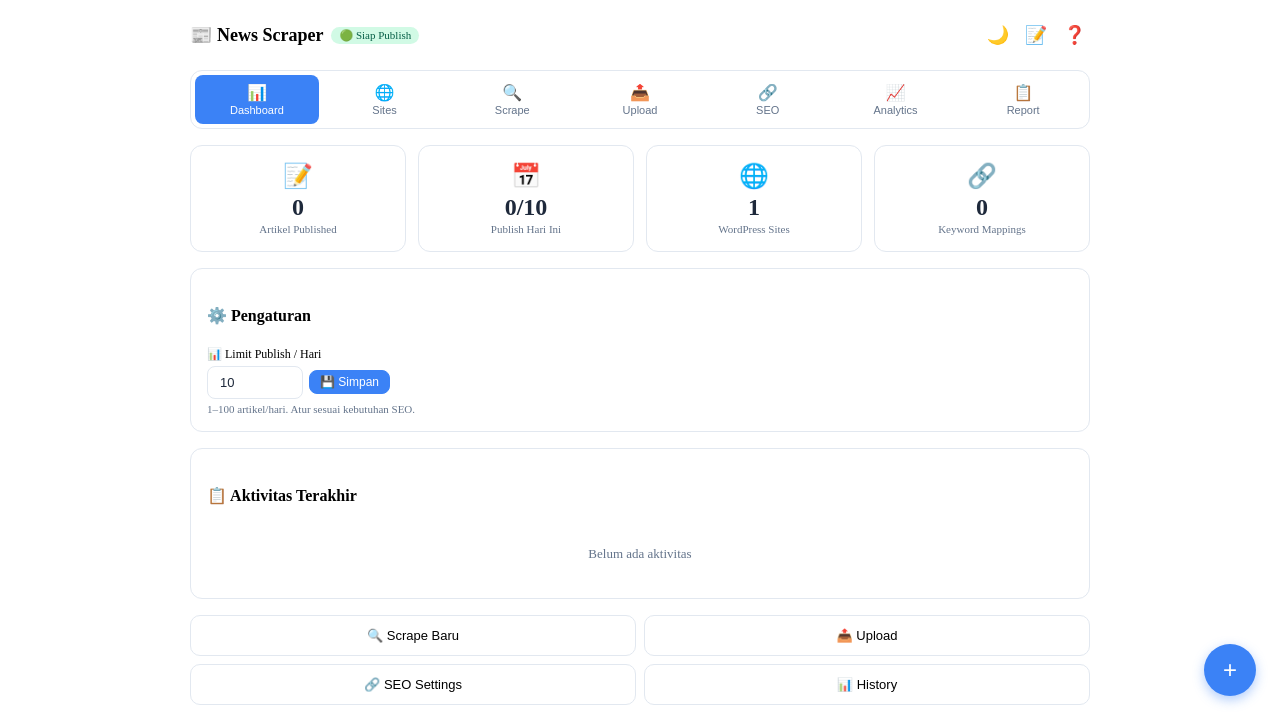
Test: ItEfView — Hapus Semua (delete-all) double-confirm flow › sukses → pesan ringkasan 25/25 + duplikat dicek ulang + log direfresh
This screenshot has width=1280, height=720.
Step 1. Click the button "🔗 SEO" → x=768, y=100, box [706, 75, 830, 124]
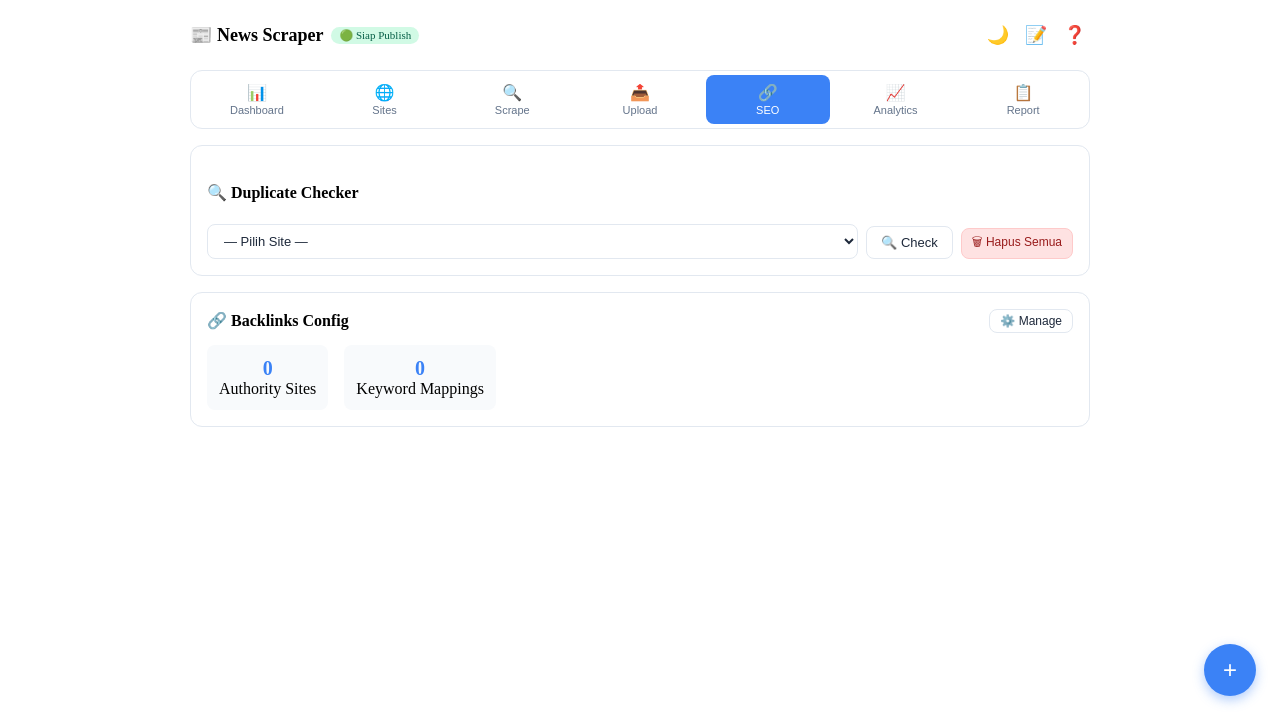
Step 2. Select "TestSite" in the dropdown → x=533, y=241, box [207, 224, 858, 258]
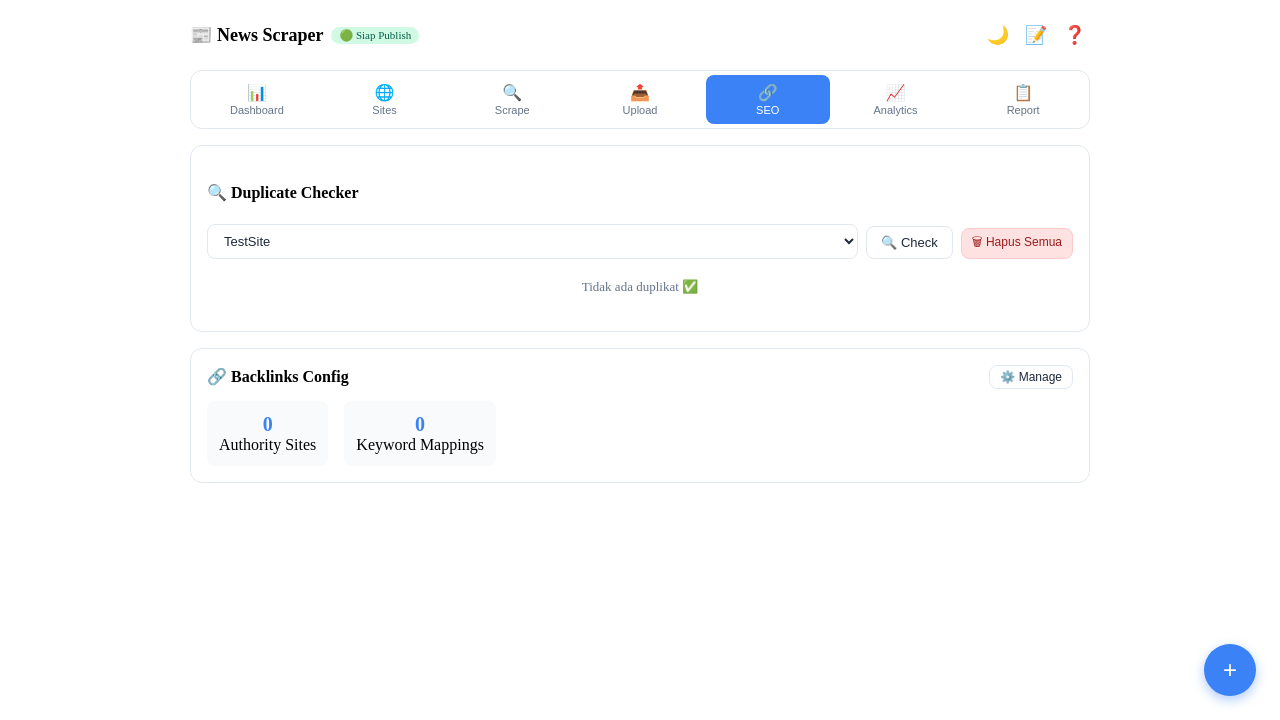
Step 3. Click the button "🔍 Check" → x=909, y=242, box [866, 226, 953, 258]
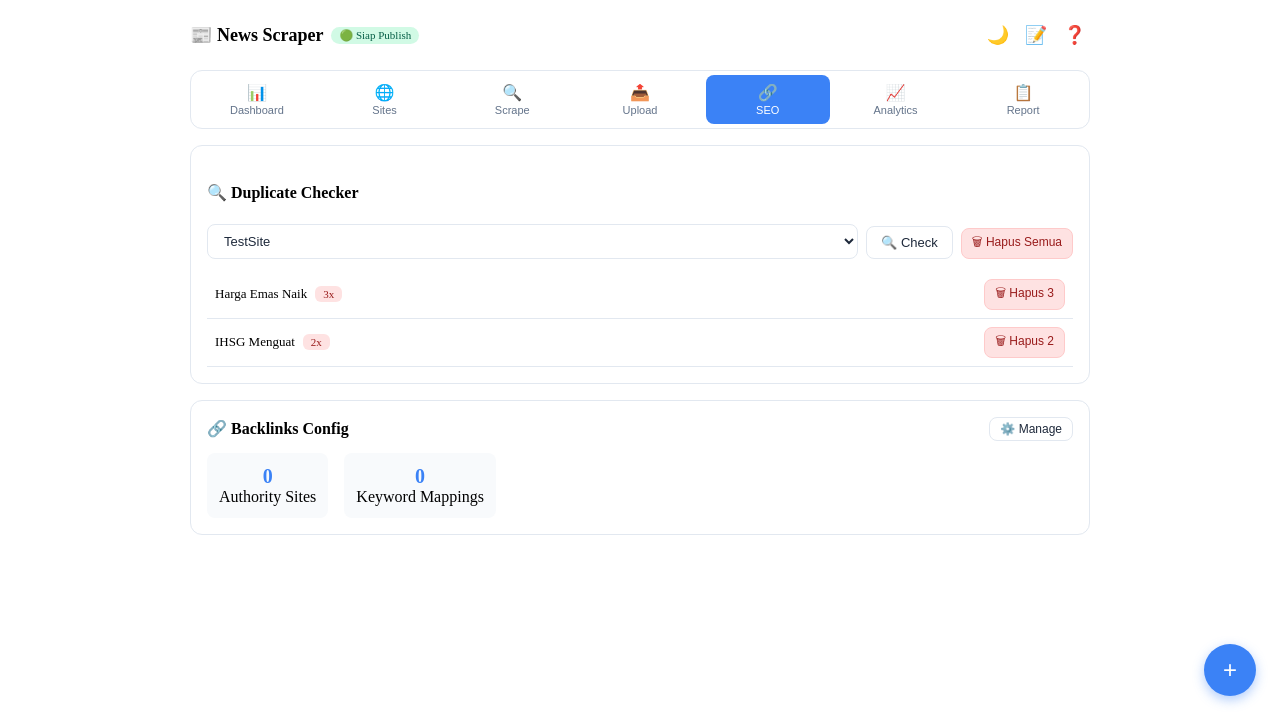
Step 4. Click the button "🗑 Hapus Semua" → x=1017, y=243, box [961, 228, 1073, 258]
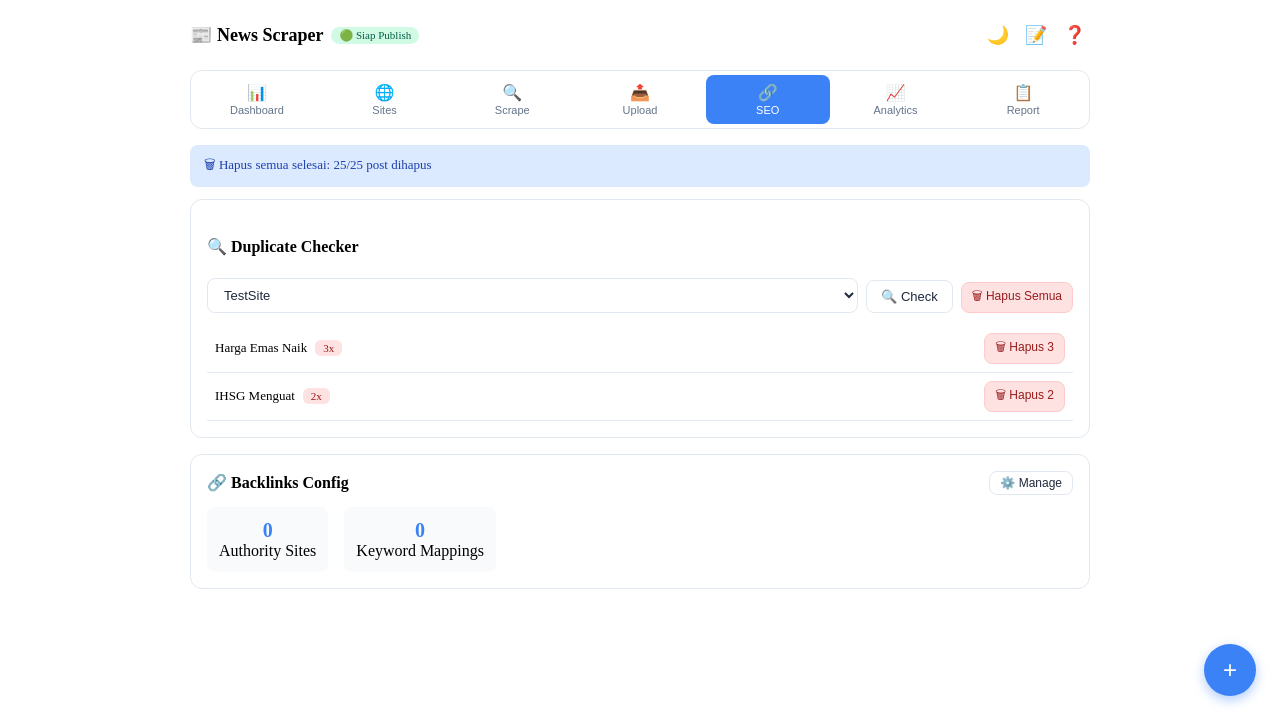
Now the text "Hapus semua selesai: 25/25 post dihapus" is shown, box [204, 157, 432, 172]
